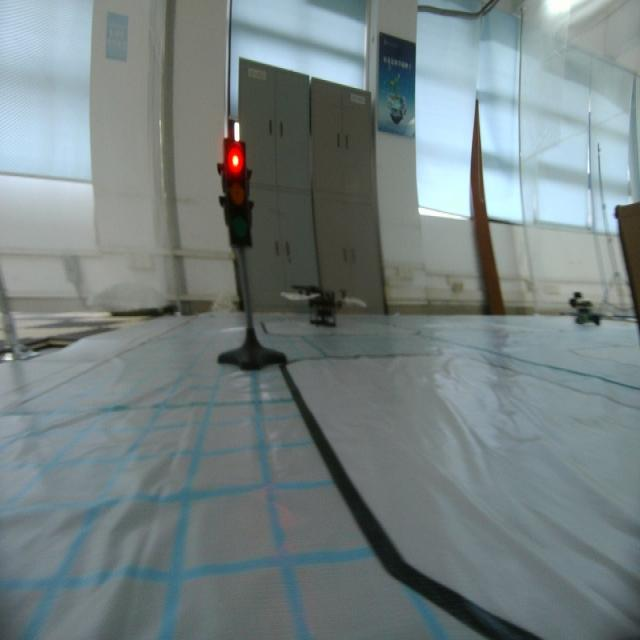red: (217, 131, 255, 256)
